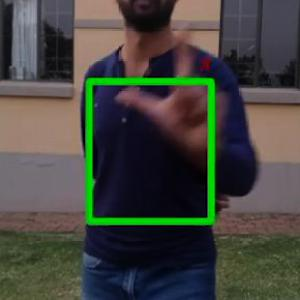land_hand: (114, 10, 234, 163)
